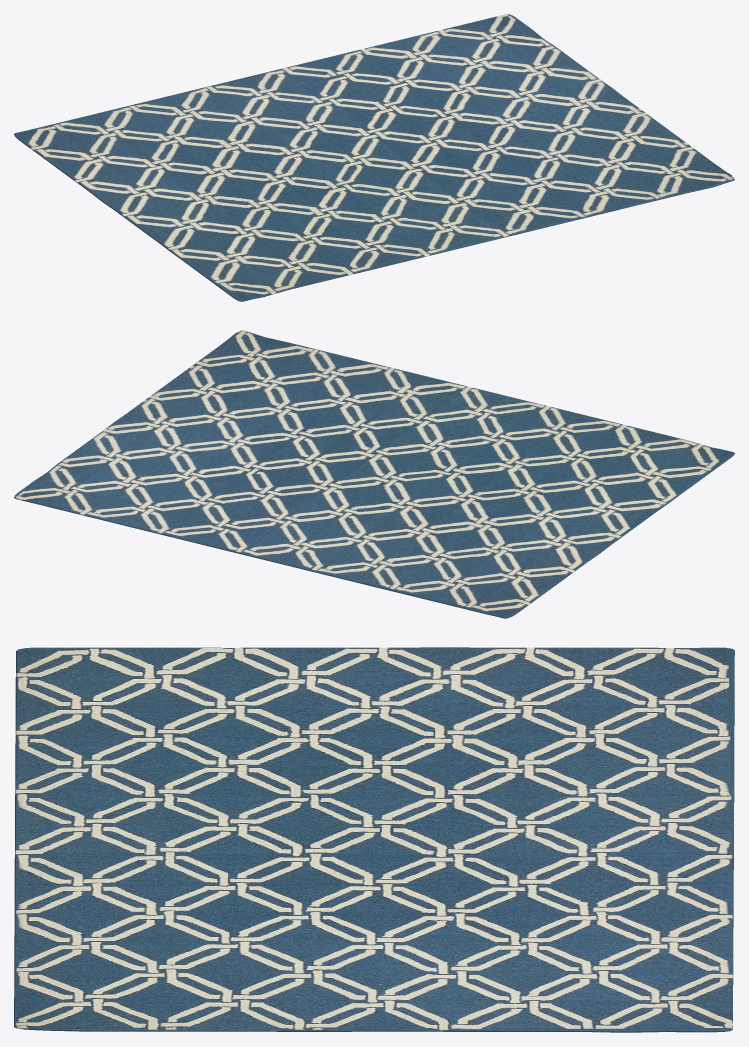
The model's file is abo-B071J4VX6D.glb.
3 views of the same model, one above another, from view 1: azimuth 30°, elevation 25°; view 2: azimuth 150°, elevation 25°; view 3: azimuth 270°, elevation 25° (orthographic). The views are drawn at different scales.
Bounding box in the file's own units: 2.87 × 0.0199 × 2.28.
Materials: 1 (1 with a texture image).
